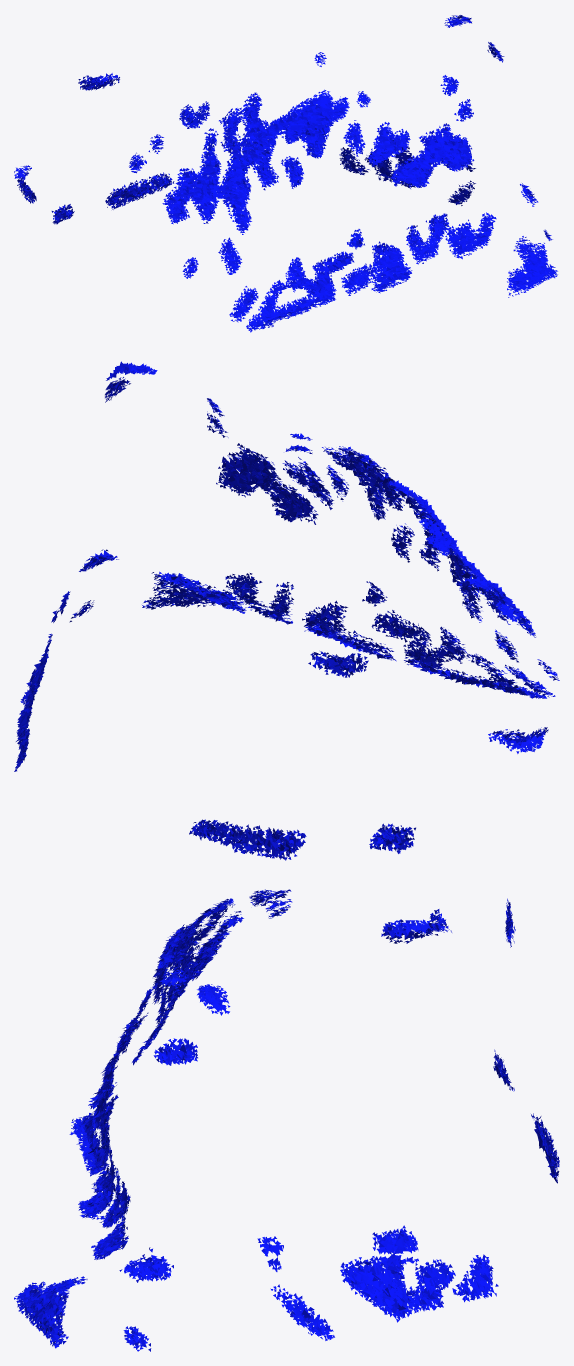
File: Rock_13_Moss.FBX
3 renders of one model, top to bottom at view 1: azimuth 30°, elevation 25°; view 2: azimuth 150°, elevation 25°; view 3: azimuth 270°, elevation 25°, orthographic. The views are drawn at different scales.
Parts seen in each view (by area): view 1: Rock_13_Moss; view 2: Rock_13_Moss; view 3: Rock_13_Moss.
Part boxes in pixels (bbox=[...]): Rock_13_Moss: bbox=[14, 15, 557, 332]; Rock_13_Moss: bbox=[14, 361, 559, 860]; Rock_13_Moss: bbox=[14, 889, 559, 1351].
Size of the model in its own units: 719 by 548 by 365.
